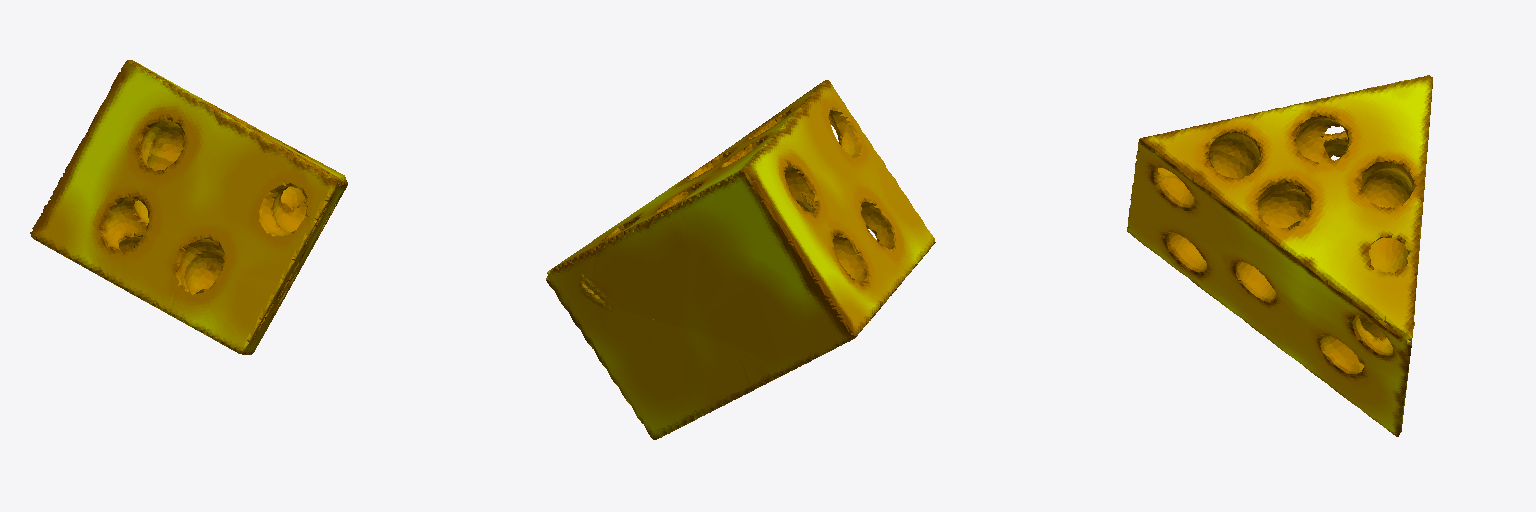
3 views of the same model, side by side, from view 1: azimuth 30°, elevation 25°; view 2: azimuth 150°, elevation 25°; view 3: azimuth 270°, elevation 25° (orthographic).
Visible parts, largest first — view 1: Layer_1; view 2: Layer_1; view 3: Layer_1.
Boxes of the visible parts, x1=… form: Layer_1: x1=30, y1=60, x2=347, y2=354; Layer_1: x1=546, y1=80, x2=935, y2=439; Layer_1: x1=1127, y1=75, x2=1432, y2=436.
Size of the model in its own units: 1.11 by 1.04 by 0.9383.
Materials: 1 (1 with a texture image).